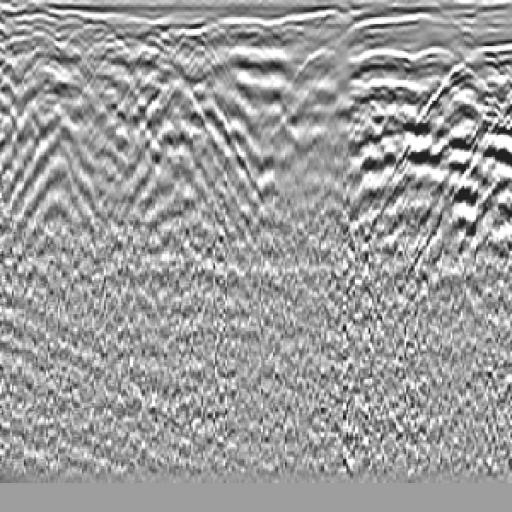non-metallic: (368, 44, 512, 299), (369, 50, 512, 291)
